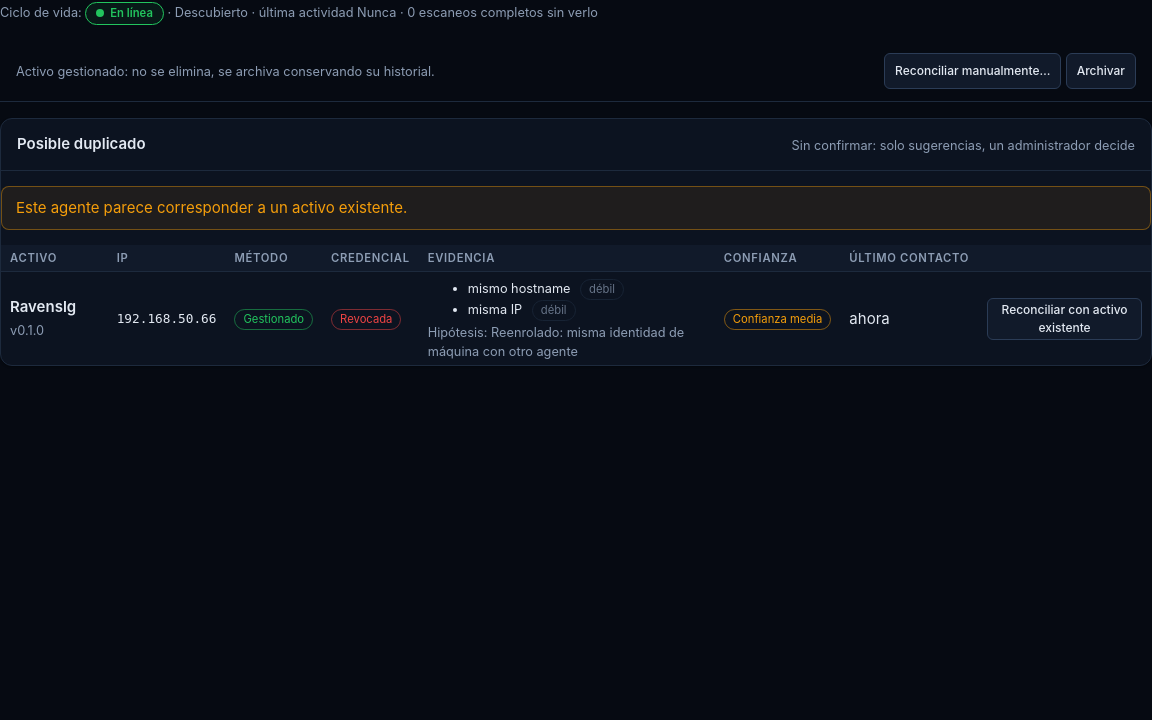
Scenario: LifecyclePanel › suggests the re-enrollment duplicate and lets an admin reconcile through the wizard
Expected: the text "Este agente parece corresponder a un activo existente." is shown, [1,186,1151,230]
Expected: the list named "Evidencia" shows "mismo hostname", [468,281,570,296]
Click the button "Reconciliar con activo existente": coordinates (1065, 319) [987,298,1142,340]
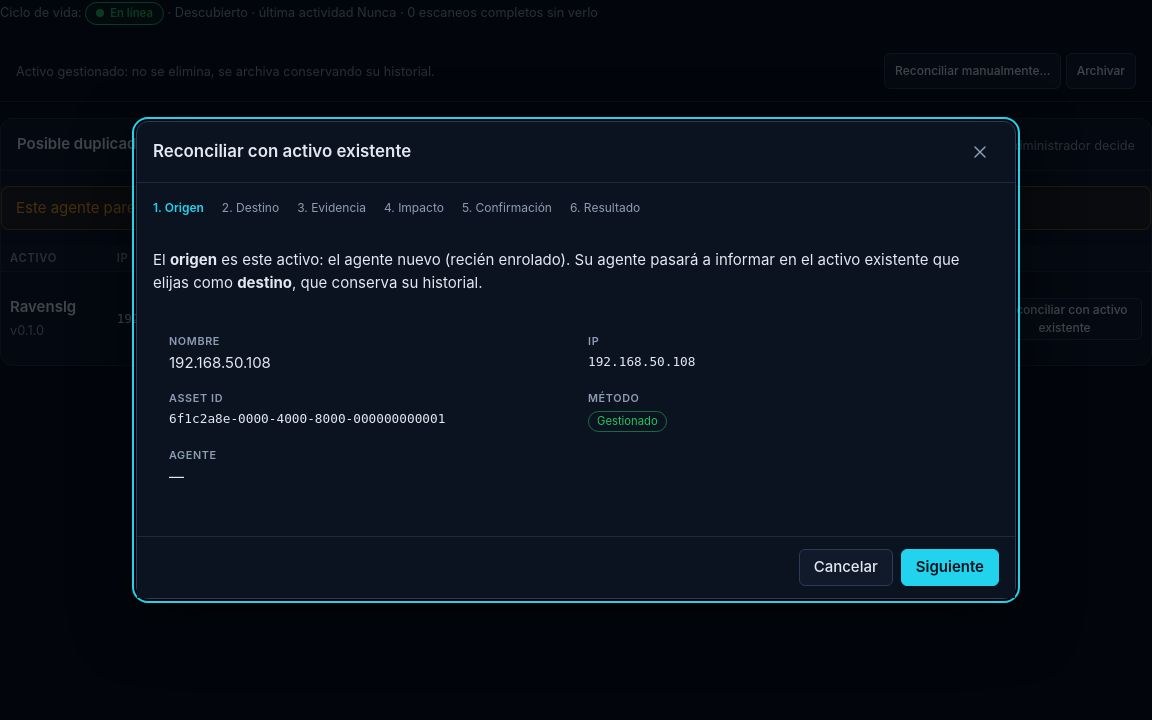
Click the button "Siguiente": coordinates (950, 568) [901,550,999,586]
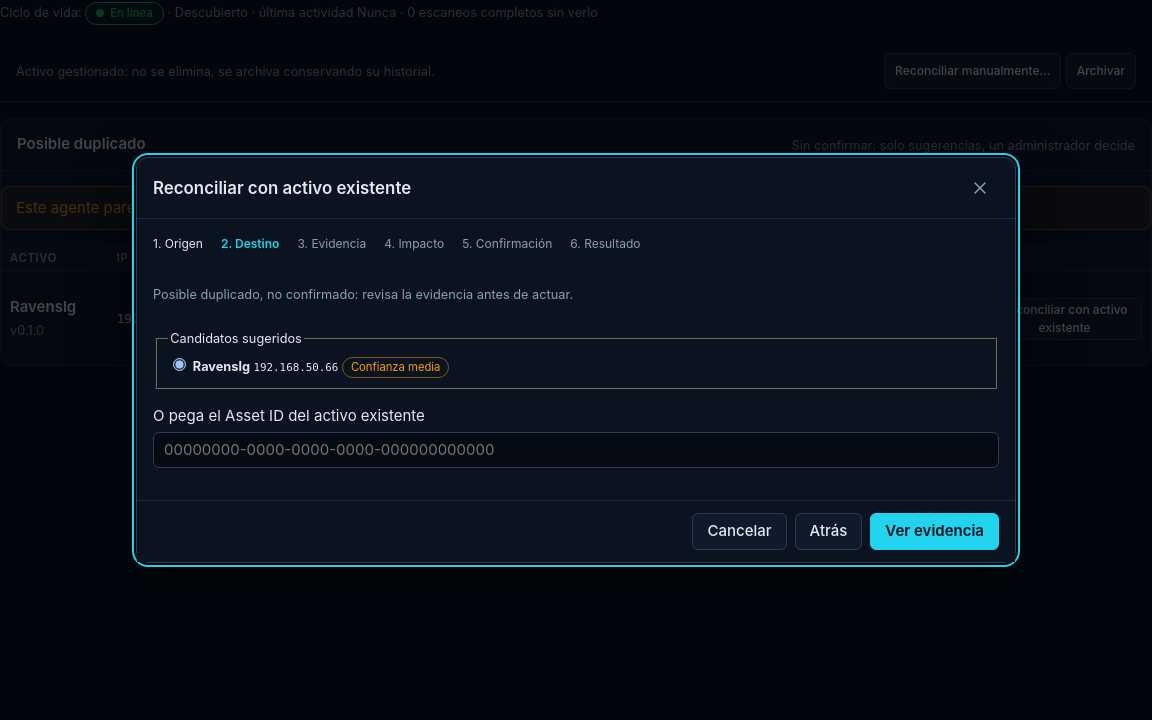
Expected: the radio button is checked, [173,358,186,371]
// El candidato llega preseleccionado.
Click the button "Ver evidencia": coordinates (935, 531) [870,513,999,550]
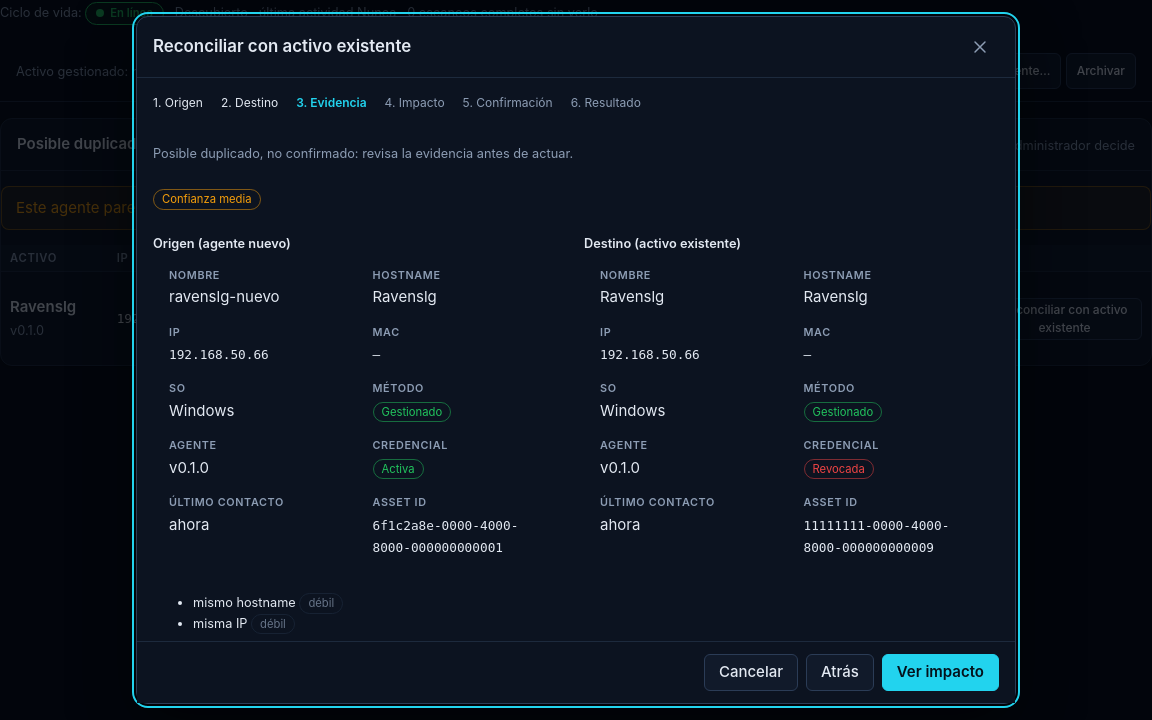
Expected: the element "Destino (activo existente)" is shown, [584,234,999,575]
Click the button "Ver impacto": coordinates (940, 673) [882,654,999,691]
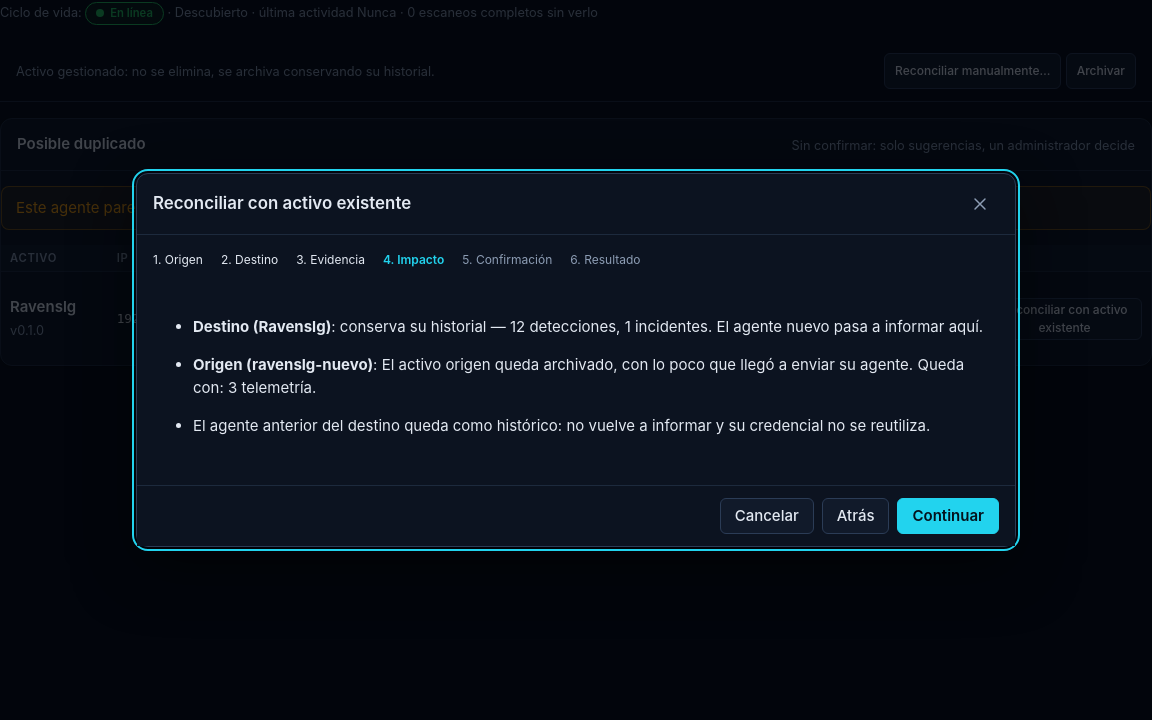
Expected: the list named "Impacto" shows "12 detecciones", [510,317,708,336]
Expected: the list named "Impacto" shows "agente anterior del destino queda como histórico", [193,416,930,435]
Click the button "Continuar": coordinates (948, 516) [898,498,999,534]
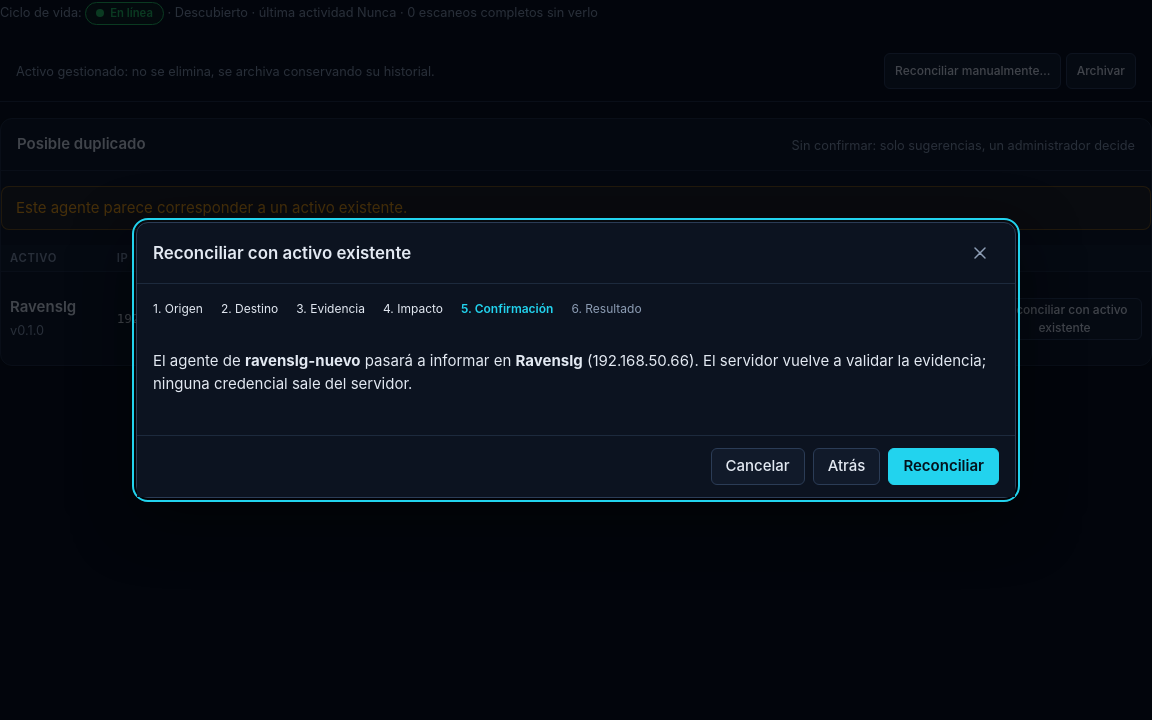
Click the button "Reconciliar": coordinates (944, 467) [888,448,999,485]
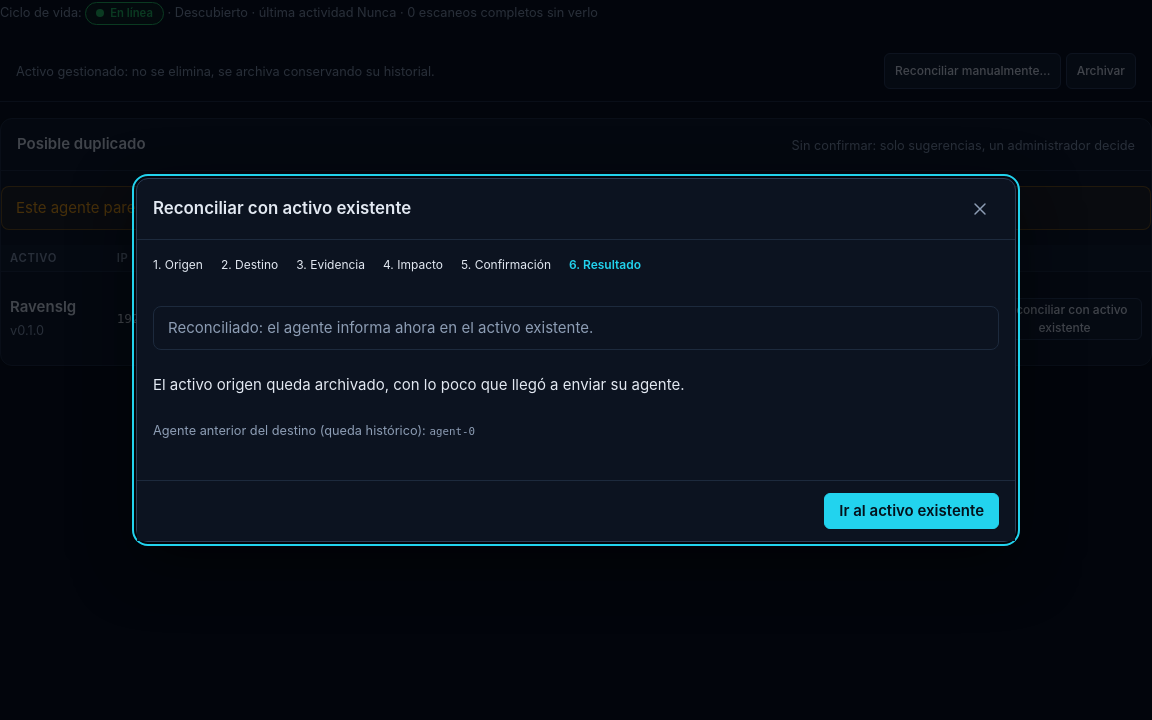
Expected: the text "Reconciliado: el agente informa ahora en el activo existente." is shown, [153,306,999,350]
Expected: the dialog "Reconciliar con activo existente" shows "queda archivado", [153,375,685,394]
